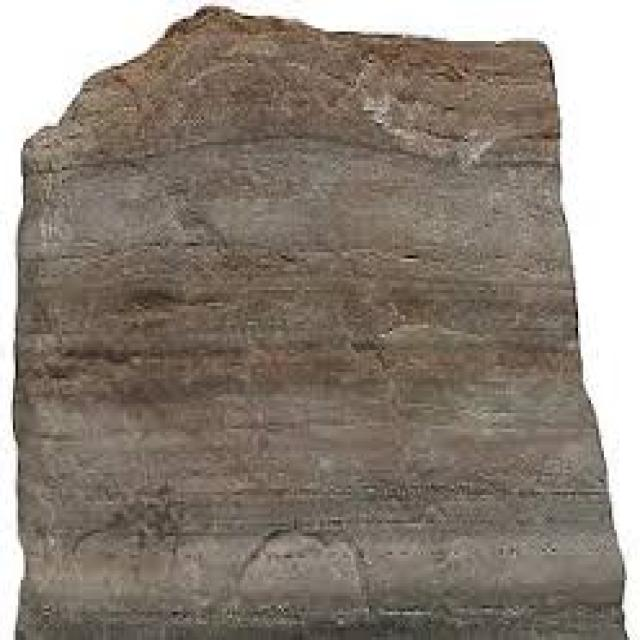Metamorphic: (10, 6, 627, 634)
